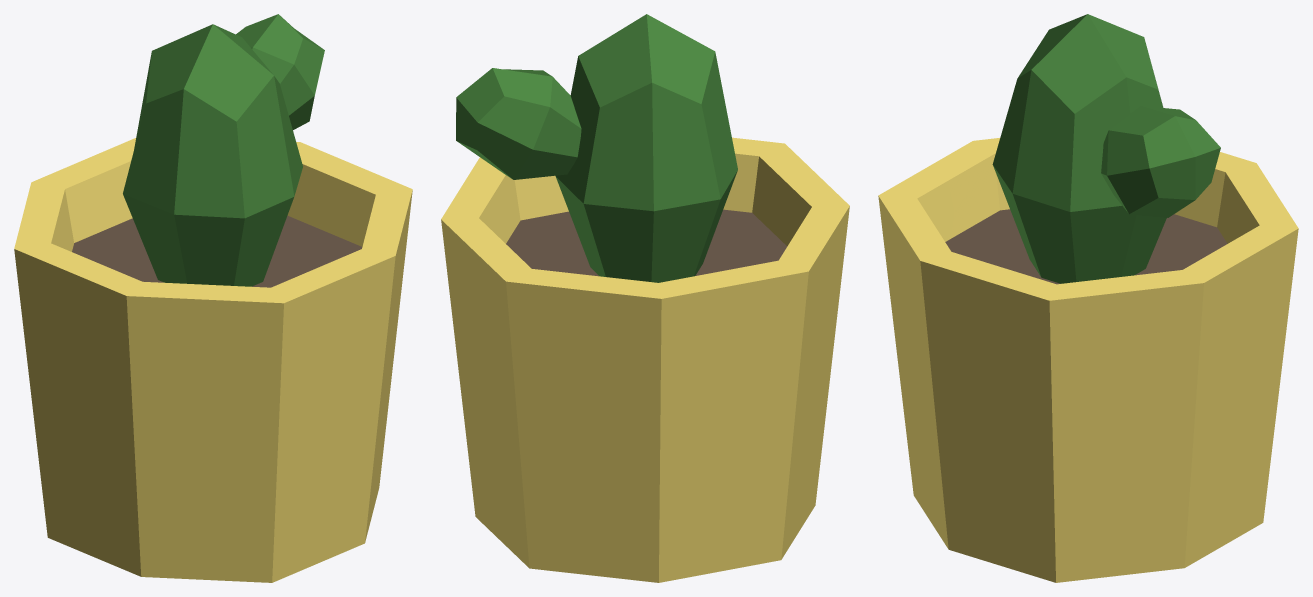
Rendered from Cactus_3_231109.glb.
3 renders of one model, left to right at view 1: azimuth 30°, elevation 25°; view 2: azimuth 150°, elevation 25°; view 3: azimuth 270°, elevation 25°, orthographic.
Parts seen in each view (by area): view 1: Cactus_3; view 2: Cactus_3; view 3: Cactus_3.
Part boxes in pixels (x1,y1,x2,y2): Cactus_3: (14, 14, 412, 582); Cactus_3: (441, 14, 849, 582); Cactus_3: (878, 14, 1298, 582).
Bounding box in the file's own units: 0.208 × 0.2701 × 0.208.
1 material, 1 textured.
